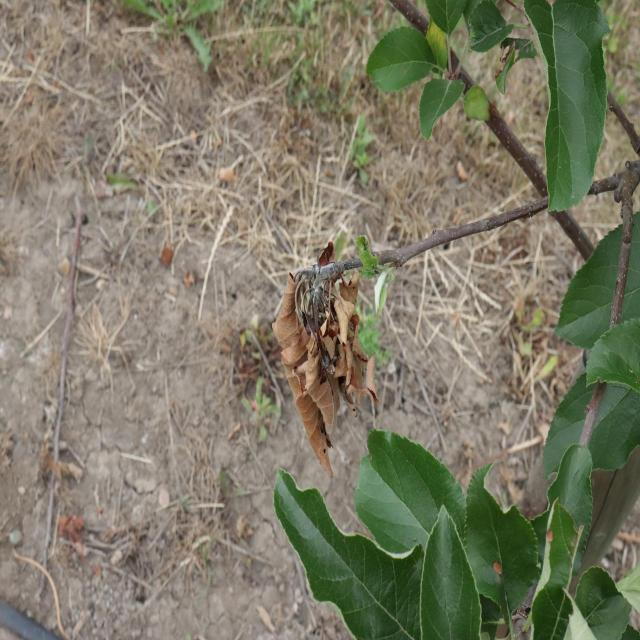-FireBlight-: (266, 270, 384, 458)
